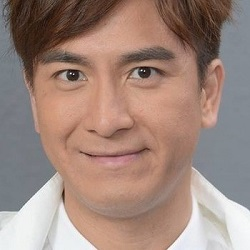unmask: (22, 32, 201, 219)
